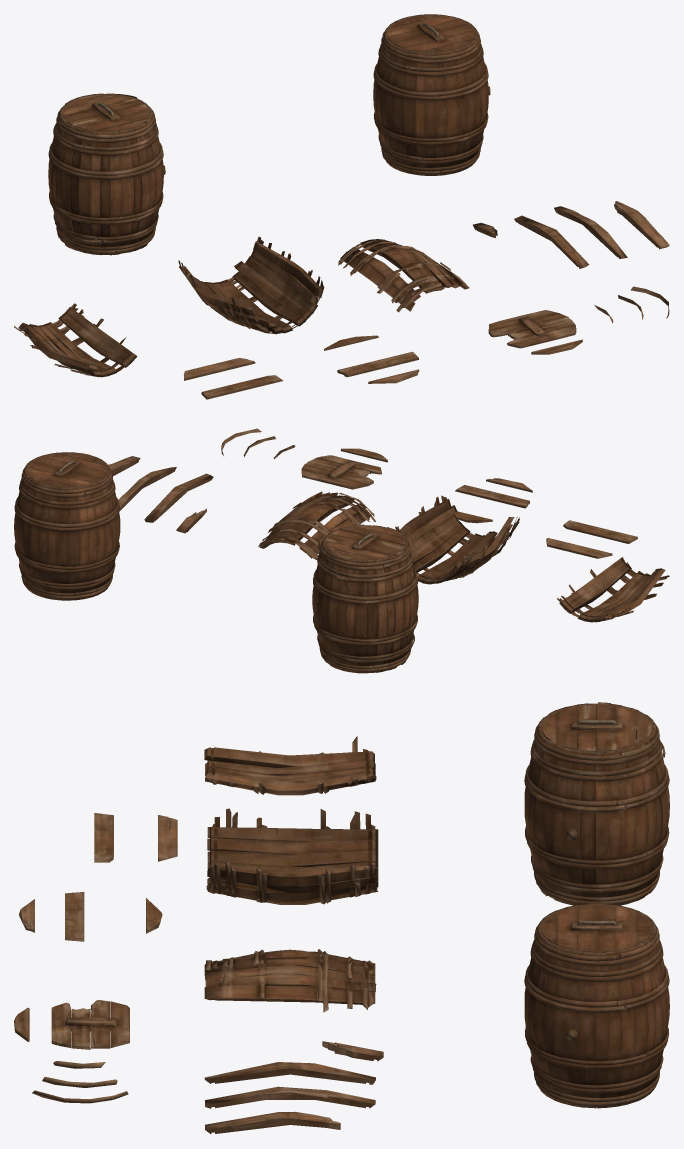
Rendered from wooden_barrels_01.glb.
3 views of the same model, one above another, from view 1: azimuth 30°, elevation 25°; view 2: azimuth 150°, elevation 25°; view 3: azimuth 270°, elevation 25° (orthographic). The views are drawn at different scales.
Visible parts, largest first — view 1: wooden_barrels_01_piece01, wooden_barrels_01_barrel01, wooden_barrels_01_barrel02; view 2: wooden_barrels_01_piece01, wooden_barrels_01_barrel02, wooden_barrels_01_barrel01; view 3: wooden_barrels_01_piece01, wooden_barrels_01_barrel01, wooden_barrels_01_barrel02.
Boxes of the visible parts, x1,y1,x2,y2 form: wooden_barrels_01_piece01: [14, 201, 669, 399]; wooden_barrels_01_barrel01: [373, 14, 490, 175]; wooden_barrels_01_barrel02: [48, 93, 165, 255]; wooden_barrels_01_piece01: [108, 428, 669, 622]; wooden_barrels_01_barrel02: [312, 524, 418, 673]; wooden_barrels_01_barrel01: [14, 452, 120, 600]; wooden_barrels_01_piece01: [14, 736, 383, 1134]; wooden_barrels_01_barrel01: [524, 903, 669, 1108]; wooden_barrels_01_barrel02: [524, 702, 669, 905].
Size of the model in its own units: 4.44 by 0.9538 by 3.34.
Materials: 3 (3 with a texture image).
